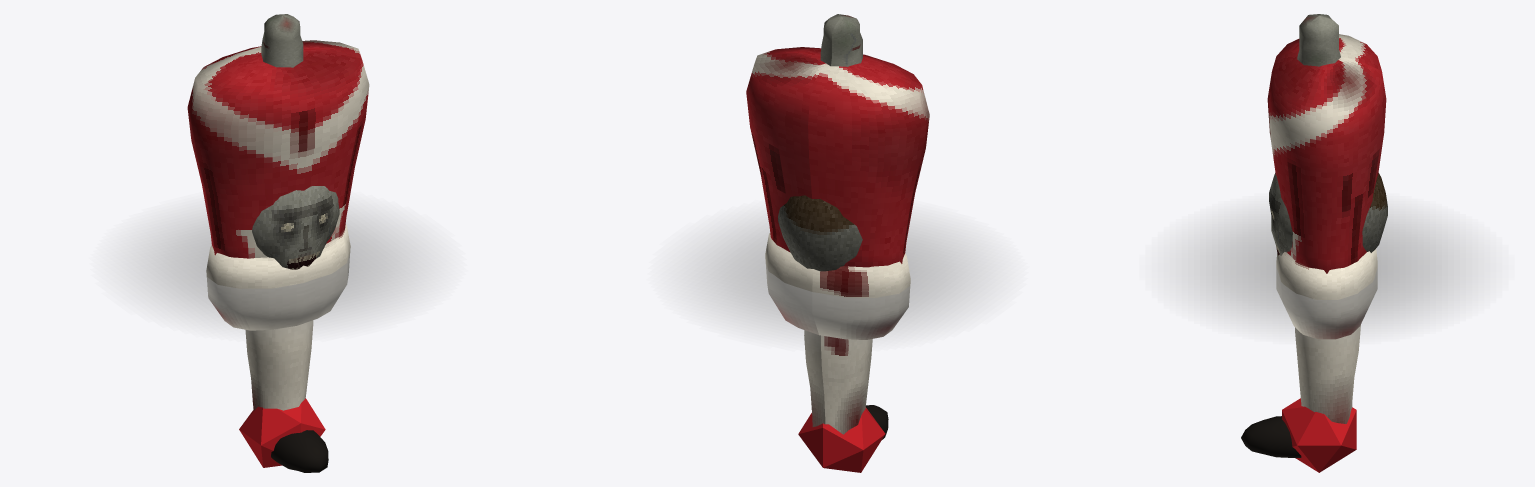
3 views of the same model, side by side, from view 1: azimuth 30°, elevation 25°; view 2: azimuth 150°, elevation 25°; view 3: azimuth 270°, elevation 25° (orthographic).
Visible parts, largest first — view 1: spine__x__1, root__x__10, core__x__0, head__h__3, legL1__x__11, armL2__x__6, spine__x__2, legL2__x__13; view 2: spine__x__1, root__x__10, core__x__0, legL1__x__11, head__h__3, armL2__x__6, spine__x__2; view 3: root__x__10, spine__x__1, core__x__0, legL1__x__11, armL2__x__6, head__h__3, spine__x__2, legL2__x__13.
Part boxes in pixels (x1,y1,x2,y2): spine__x__1: (187,40,369,258); root__x__10: (116,203,440,332); core__x__0: (206,224,350,330); head__h__3: (252,186,339,269); legL1__x__11: (245,320,313,410); armL2__x__6: (239,398,325,467); spine__x__2: (261,14,303,67); legL2__x__13: (271,430,328,472); spine__x__1: (746,47,929,267); root__x__10: (674,212,1001,342); core__x__0: (765,233,910,339); legL1__x__11: (804,330,872,434); head__h__3: (778,195,862,271); armL2__x__6: (798,407,885,472); spine__x__2: (820,14,862,66); root__x__10: (1164,204,1489,335); spine__x__1: (1267,34,1386,273); core__x__0: (1276,248,1377,339); legL1__x__11: (1295,325,1360,423); armL2__x__6: (1282,398,1356,472); head__h__3: (1269,173,1387,255); spine__x__2: (1297,14,1340,66); legL2__x__13: (1241,416,1301,458).
Bounding box in the file's own units: 0.9167 × 1.17 × 0.9167.
7 materials, 5 textured.
